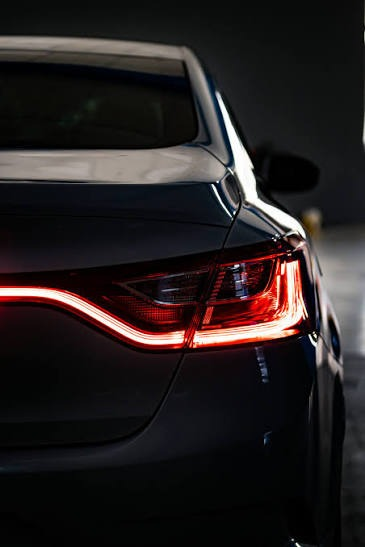car: (1, 17, 359, 533), (1, 24, 328, 327)
